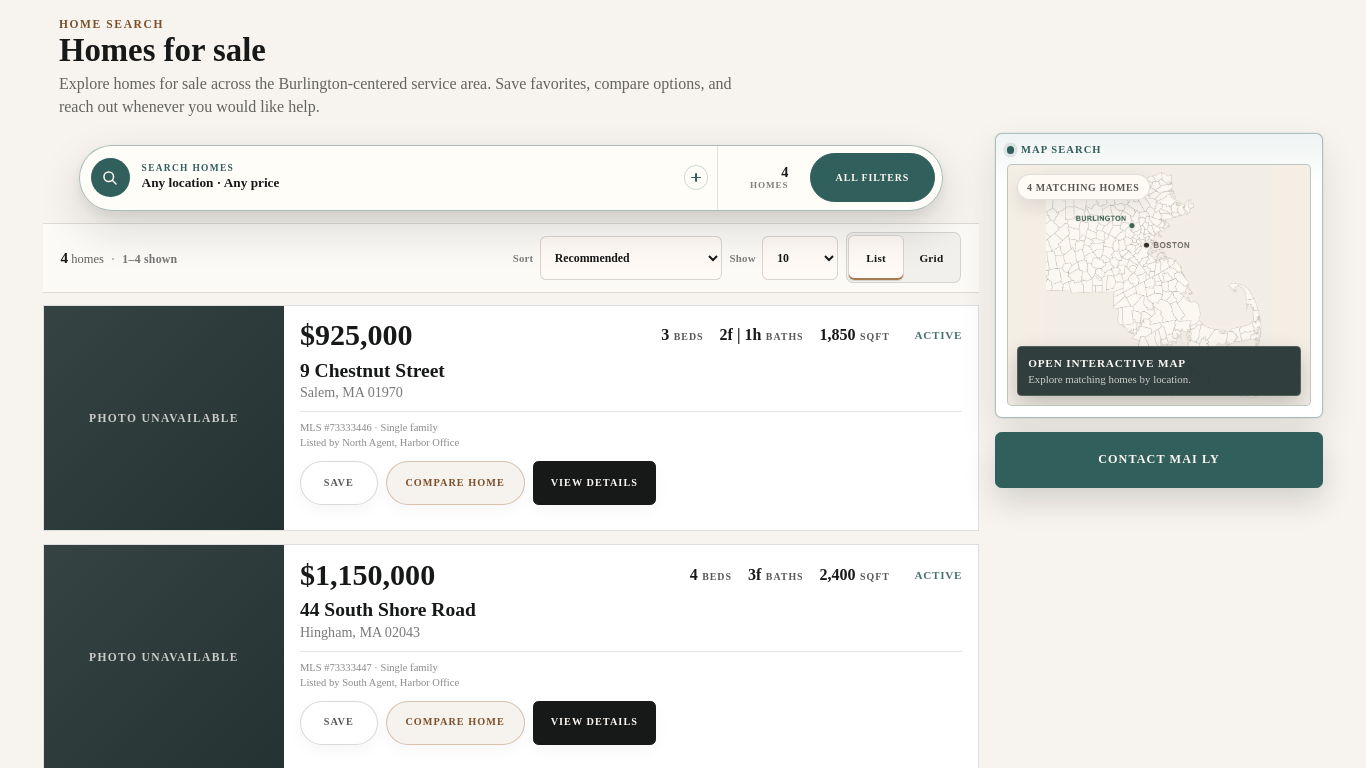
PropertiesSearch › collapses the inline capsule before switching to the mobile filter sheet
The width and height of the screenshot is (1366, 768).
Click the button with aria-label "edit search filters".
click(110, 178)  # box [80,146,717,210]
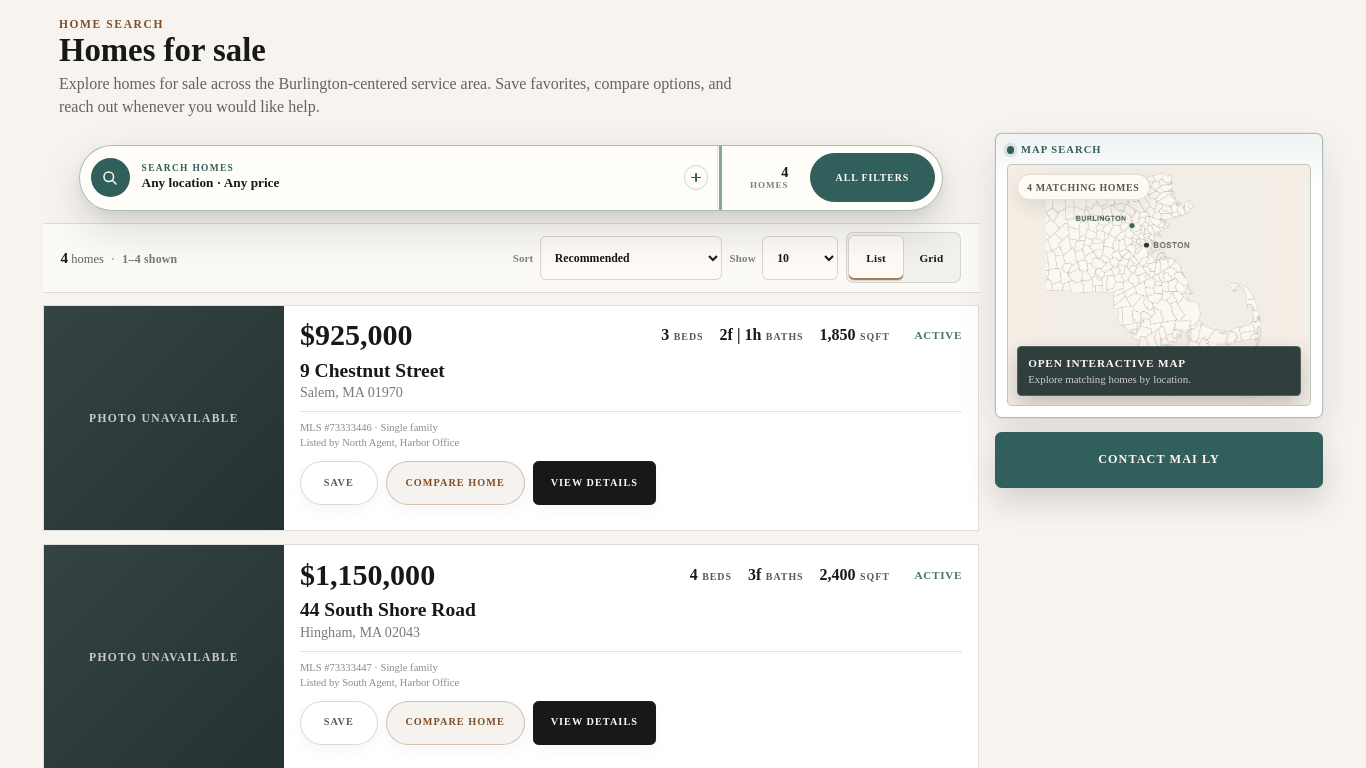
Click the button with aria-label "edit search filters".
click(110, 178)  # box [80,146,717,210]
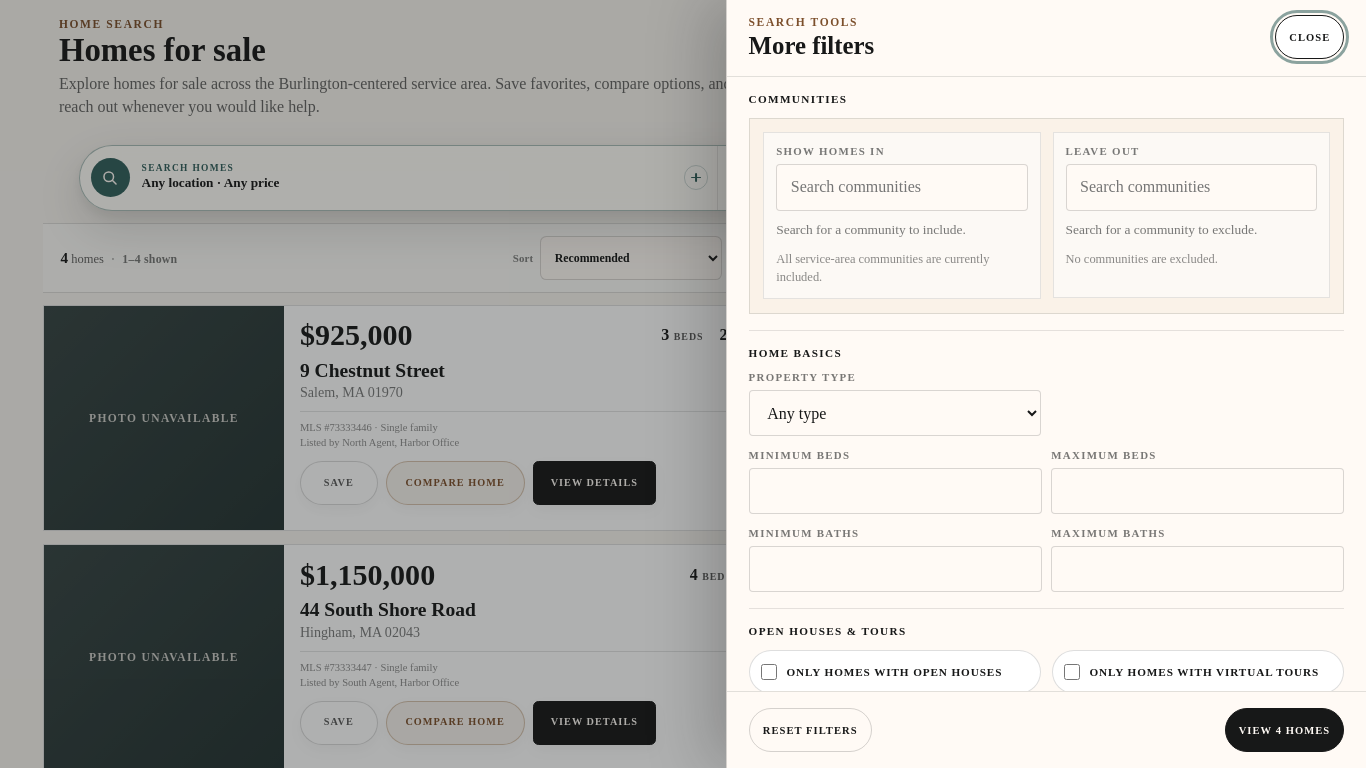
Expected: the dialog "More filters" is shown, [726,0,1365,767]
